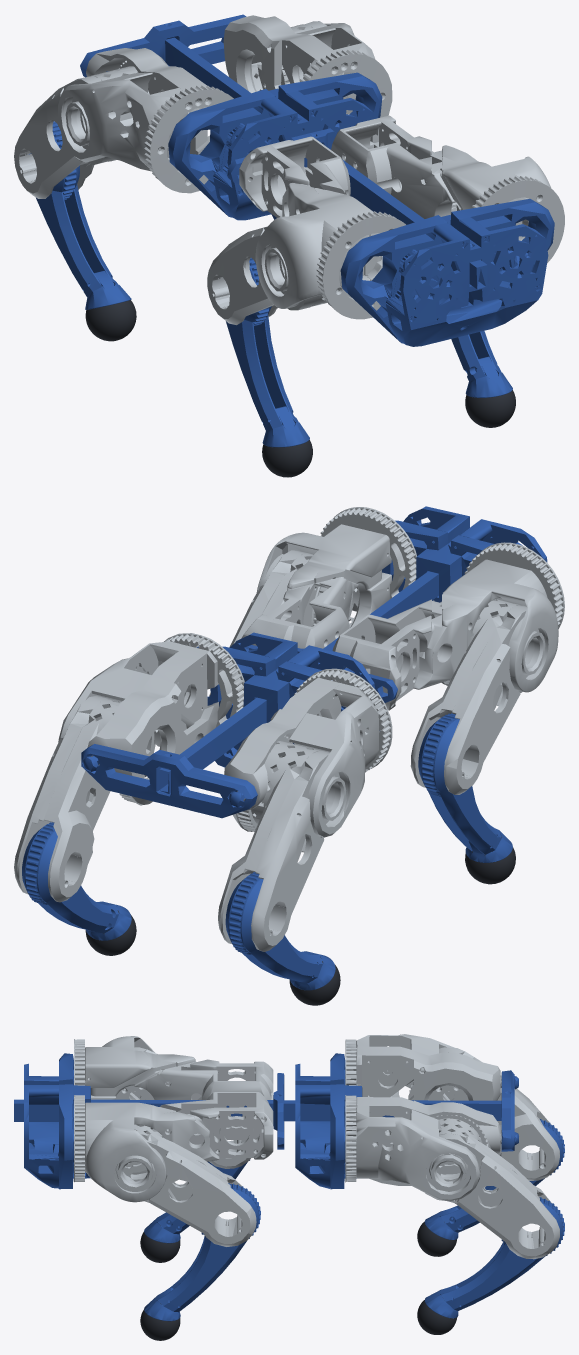
Rendered from robodog-interactive.glb.
3 views of the same model, one above another, from view 1: azimuth 30°, elevation 25°; view 2: azimuth 150°, elevation 25°; view 3: azimuth 270°, elevation 25° (orthographic). The views are drawn at different scales.
Parts seen in each view (by area): view 1: main, front_right_top_leg, back_right_top_leg, front_left_top_leg, back_left_top_leg, back_right_mid_leg, front_right_bot_leg, back_right_bot_leg, front_right_mid_leg, front_left_bot_leg, back_right_bot_foot, front_right_bot_foot (+2 smaller); view 2: main, front_right_top_leg, front_left_top_leg, back_left_top_leg, back_right_top_leg, back_right_mid_leg, front_right_mid_leg, back_left_mid_leg, front_right_bot_leg, back_right_bot_leg, back_left_bot_leg, front_left_mid_leg (+3 smaller); view 3: main, front_left_top_leg, back_left_top_leg, back_left_mid_leg, front_right_top_leg, front_left_mid_leg, back_right_top_leg, back_right_mid_leg, back_left_bot_leg, front_left_bot_leg, back_right_bot_leg, front_right_bot_leg (+5 smaller).
Part boxes in pixels (<box>): main: <box>80,14,554,346</box>; front_right_top_leg: <box>239,136,405,319</box>; back_right_top_leg: <box>58,48,233,193</box>; front_left_top_leg: <box>331,115,564,263</box>; back_left_top_leg: <box>223,15,392,117</box>; back_right_mid_leg: <box>14,60,173,198</box>; front_right_bot_leg: <box>226,258,309,447</box>; back_right_bot_leg: <box>29,121,131,309</box>; front_right_mid_leg: <box>207,226,327,325</box>; front_left_bot_leg: <box>451,331,512,397</box>; back_right_bot_foot: <box>85,300,136,341</box>; front_right_bot_foot: <box>262,439,312,477</box>; main: <box>81,506,547,818</box>; front_right_top_leg: <box>332,542,564,710</box>; front_left_top_leg: <box>241,507,416,648</box>; back_left_top_leg: <box>58,633,244,804</box>; back_right_top_leg: <box>224,668,392,837</box>; back_right_mid_leg: <box>218,735,346,951</box>; front_right_mid_leg: <box>410,599,545,794</box>; back_left_mid_leg: <box>14,696,160,902</box>; front_right_bot_leg: <box>418,713,512,862</box>; back_right_bot_leg: <box>225,872,335,990</box>; back_left_bot_leg: <box>22,822,131,940</box>; front_left_mid_leg: <box>209,550,358,695</box>; main: <box>14,1053,518,1189</box>; front_left_top_leg: <box>74,1092,273,1202</box>; back_left_top_leg: <box>345,1095,501,1201</box>; back_left_mid_leg: <box>425,1115,559,1259</box>; front_right_top_leg: <box>74,1036,273,1099</box>; front_left_mid_leg: <box>114,1124,256,1246</box>; back_right_top_leg: <box>345,1034,501,1100</box>; back_right_mid_leg: <box>408,1047,559,1180</box>; back_left_bot_leg: <box>424,1197,564,1318</box>; front_left_bot_leg: <box>144,1183,260,1321</box>; back_right_bot_leg: <box>424,1119,564,1239</box>; front_right_bot_leg: <box>144,1160,249,1243</box>.
Size of the model in its own units: 1.18 by 1.26 by 2.75.
